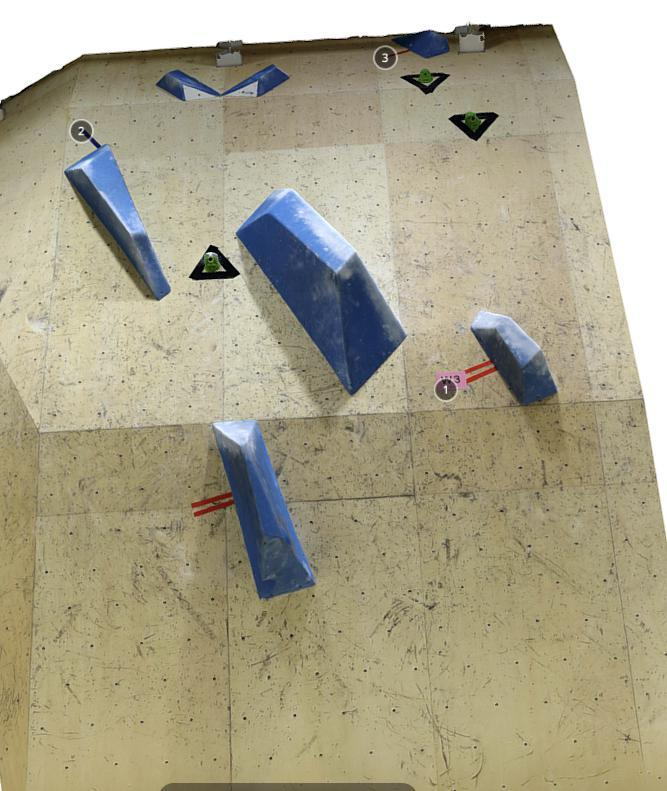hold: (236, 188, 408, 396), (213, 420, 317, 601), (62, 142, 171, 301), (471, 310, 558, 406), (222, 64, 291, 97), (156, 69, 221, 101), (189, 244, 241, 280), (391, 29, 449, 59), (447, 111, 499, 142), (401, 68, 451, 95)
